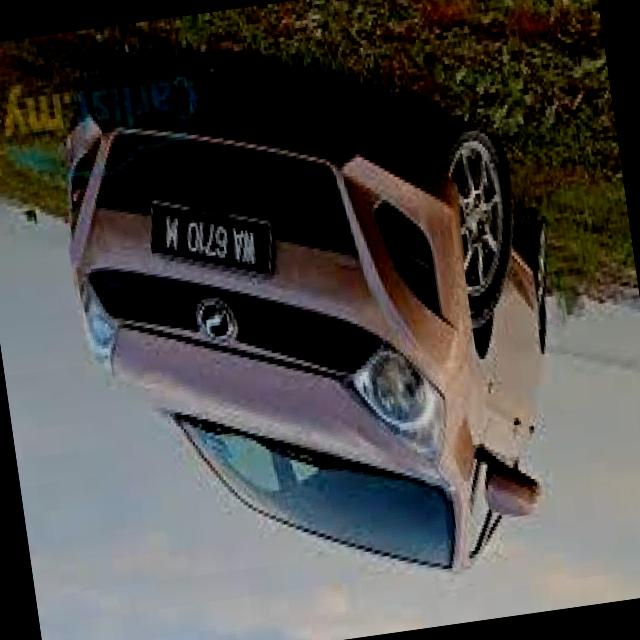PeroduaAxia: (43, 19, 596, 628)
